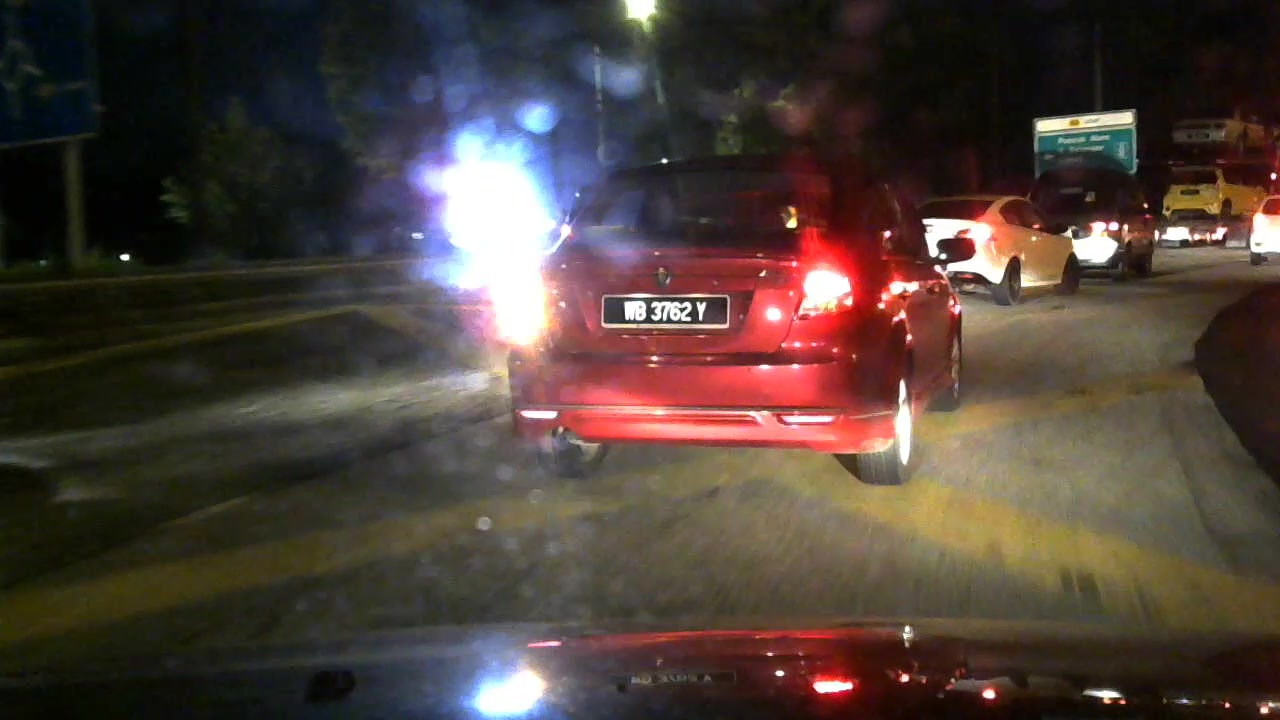Car: (484, 141, 974, 484), (923, 185, 1079, 301), (1048, 179, 1160, 283), (1164, 157, 1260, 219), (1245, 190, 1280, 280)
